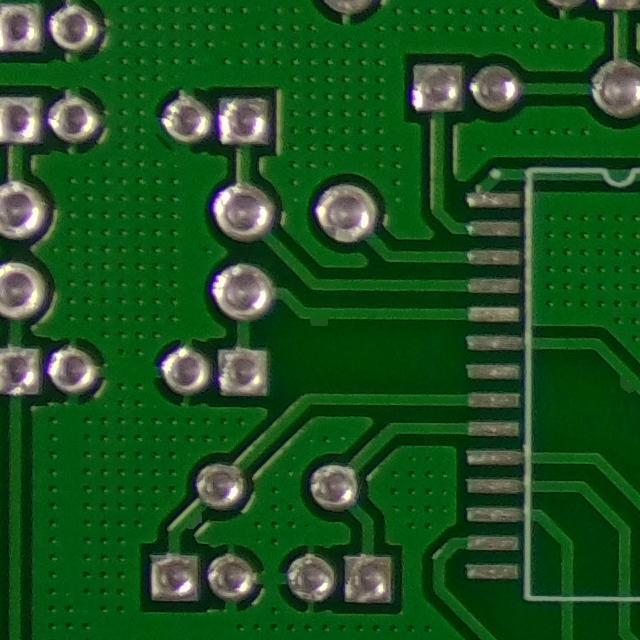spur: (297, 296, 343, 344)
